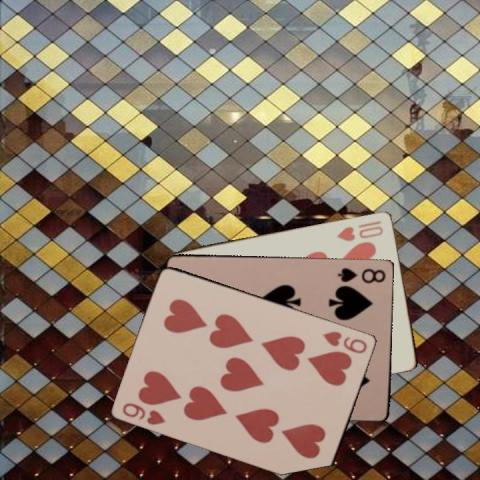10h: (334, 217, 385, 243)
8s: (334, 264, 387, 284)
9h: (119, 399, 168, 427), (320, 328, 369, 355)
